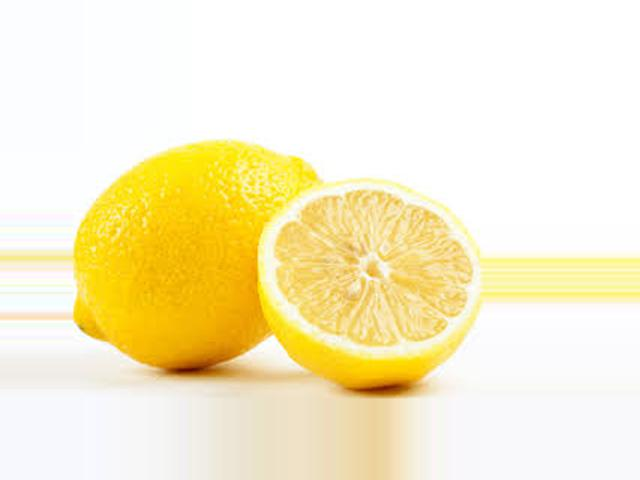lemon: (78, 133, 327, 384)
